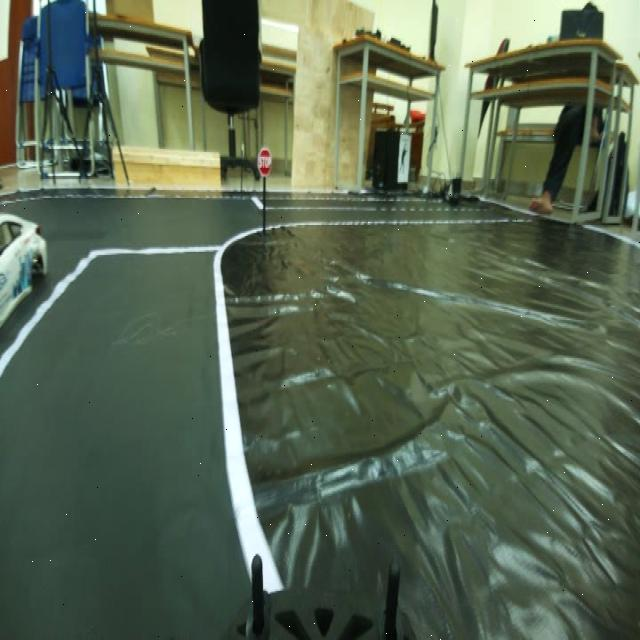stop: (255, 137, 278, 181)
